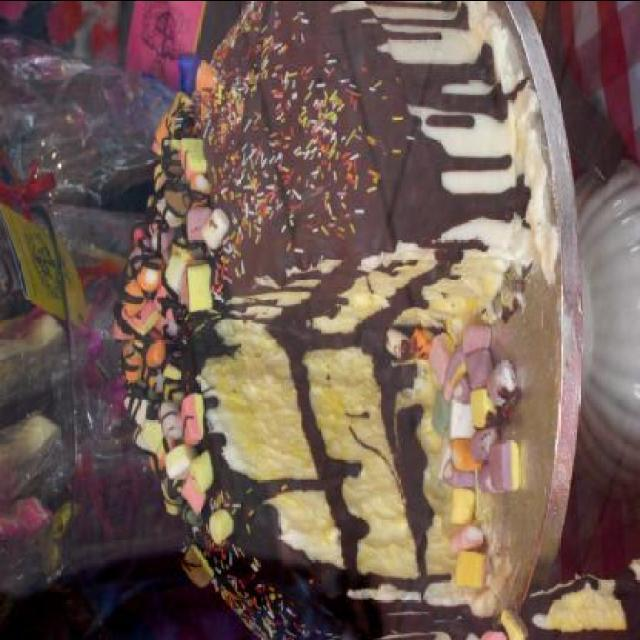Cake: (115, 2, 535, 640), (516, 571, 638, 640)
